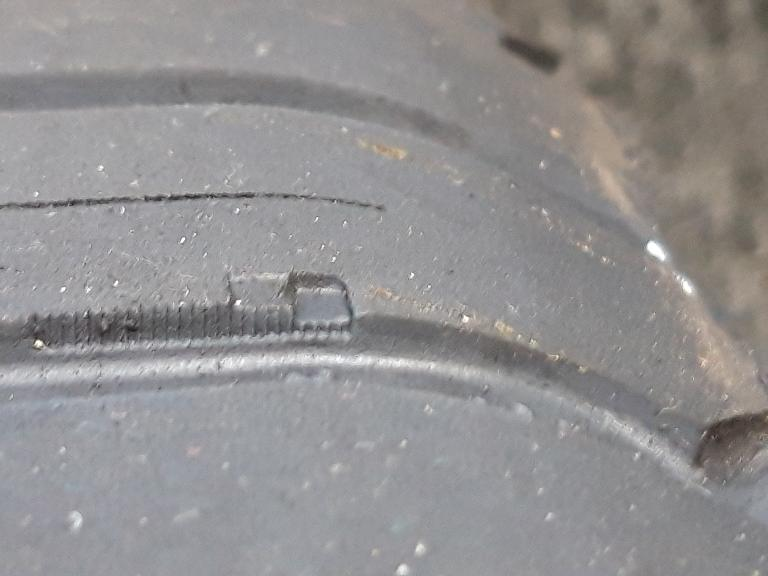temoin:25: (219, 263, 363, 349)
